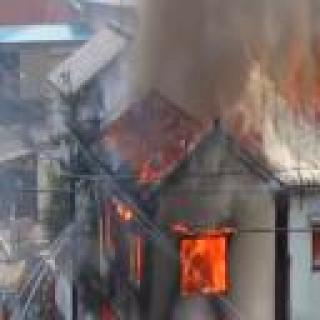fire: (91, 180, 288, 320), (304, 25, 320, 131), (313, 211, 320, 267)
